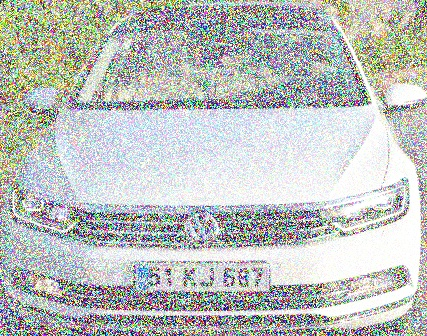plaka: (142, 259, 270, 292)
